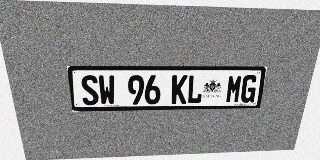6: (145, 75, 161, 104)
9: (128, 75, 144, 105)
G: (240, 75, 258, 103)
K: (171, 75, 188, 104)
L: (187, 75, 204, 104)
M: (225, 75, 243, 103)
S: (80, 75, 99, 105)
W: (98, 75, 116, 105)
